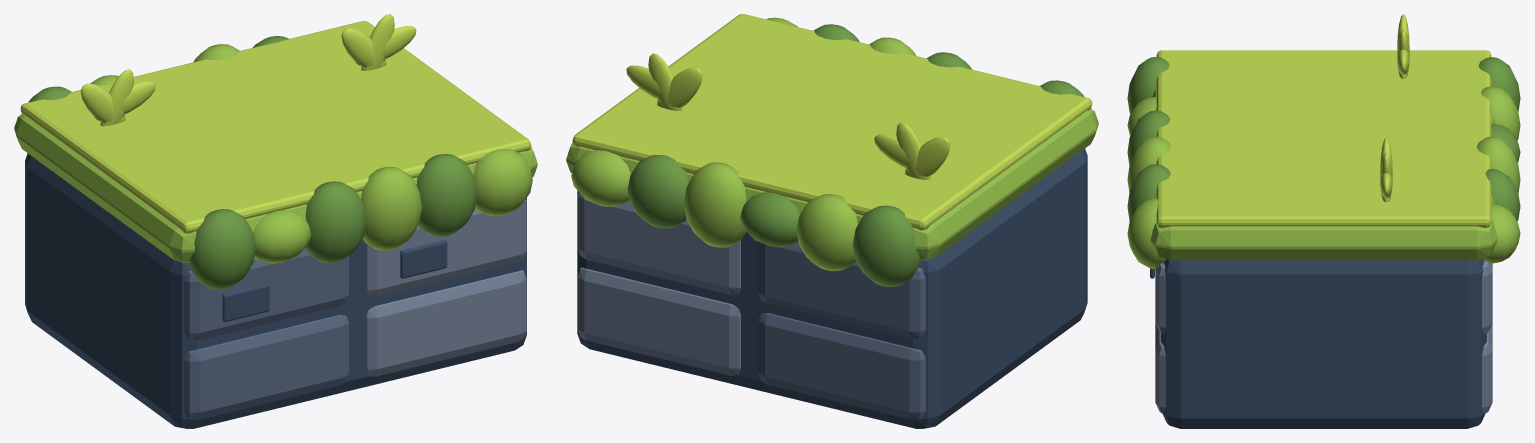
The model's file is platformNarrow.glb.
3 renders of one model, left to right at view 1: azimuth 30°, elevation 25°; view 2: azimuth 150°, elevation 25°; view 3: azimuth 270°, elevation 25°, orthographic.
Parts seen in each view (by area): view 1: SunlitLandingTop.001, Foundation.001, Masonry_L1_0.001, Masonry_L1_1.001, Masonry_L0_0.001, GrassLandingSurface.001, Masonry_L0_1.001, GrassEdgeScallop.024, GrassEdgeScallop.027, GrassEdgeScallop.028, GrassEdgeScallop.026, GrassEdgeScallop.029 (+10 smaller); view 2: SunlitLandingTop.001, Foundation.001, Masonry_L1_0.001, Masonry_L1_1.001, Masonry_L0_0.001, Masonry_L0_1.001, GrassLandingSurface.001, GrassEdgeScallop.033, GrassEdgeScallop.030, GrassEdgeScallop.031, GrassEdgeScallop.034, GrassEdgeScallop.035 (+9 smaller); view 3: SunlitLandingTop.001, Foundation.001, GrassLandingSurface.001, Masonry_L1_1.001, GrassEdgeScallop.029, Masonry_L0_1.001, GrassEdgeScallop.035, GrassEdgeScallop.024, GrassEdgeScallop.028, GrassEdgeScallop.033, GrassEdgeScallop.031, GrassEdgeScallop.027 (+5 smaller).
Boxes of the visible parts, left/top/right/bottom form: SunlitLandingTop.001: left=20, top=21, right=531, bottom=233; Foundation.001: left=25, top=153, right=526, bottom=428; Masonry_L1_0.001: left=184, top=315, right=348, bottom=419; Masonry_L1_1.001: left=366, top=270, right=526, bottom=376; Masonry_L0_0.001: left=184, top=248, right=348, bottom=340; GrassLandingSurface.001: left=14, top=114, right=537, bottom=262; Masonry_L0_1.001: left=366, top=199, right=526, bottom=297; GrassEdgeScallop.024: left=189, top=209, right=255, bottom=289; GrassEdgeScallop.027: left=361, top=167, right=422, bottom=250; GrassEdgeScallop.028: left=416, top=154, right=477, bottom=236; GrassEdgeScallop.026: left=305, top=181, right=366, bottom=263; GrassEdgeScallop.029: left=473, top=149, right=532, bottom=216; SunlitLandingTop.001: left=572, top=14, right=1092, bottom=230; Foundation.001: left=577, top=149, right=1087, bottom=428; Masonry_L1_0.001: left=758, top=313, right=925, bottom=419; Masonry_L1_1.001: left=577, top=267, right=740, bottom=375; Masonry_L0_0.001: left=758, top=241, right=925, bottom=338; Masonry_L0_1.001: left=577, top=192, right=740, bottom=294; GrassLandingSurface.001: left=566, top=109, right=1098, bottom=260; GrassEdgeScallop.033: left=684, top=162, right=746, bottom=247; GrassEdgeScallop.030: left=852, top=205, right=920, bottom=286; GrassEdgeScallop.031: left=796, top=194, right=857, bottom=271; GrassEdgeScallop.034: left=627, top=155, right=688, bottom=228; GrassEdgeScallop.035: left=571, top=150, right=630, bottom=206; SunlitLandingTop.001: left=1156, top=50, right=1491, bottom=227; Foundation.001: left=1161, top=258, right=1486, bottom=428; GrassLandingSurface.001: left=1150, top=87, right=1497, bottom=260; Masonry_L1_1.001: left=1155, top=323, right=1492, bottom=413; GrassEdgeScallop.029: left=1127, top=198, right=1166, bottom=269; Masonry_L0_1.001: left=1155, top=261, right=1492, bottom=334; GrassEdgeScallop.035: left=1483, top=204, right=1520, bottom=263; GrassEdgeScallop.024: left=1127, top=57, right=1169, bottom=113; GrassEdgeScallop.028: left=1127, top=164, right=1170, bottom=220; GrassEdgeScallop.033: left=1477, top=136, right=1520, bottom=193; GrassEdgeScallop.031: left=1481, top=86, right=1520, bottom=140; GrassEdgeScallop.027: left=1127, top=136, right=1171, bottom=191.
Size of the model in its own units: 1.5 by 1.03 by 1.39.
